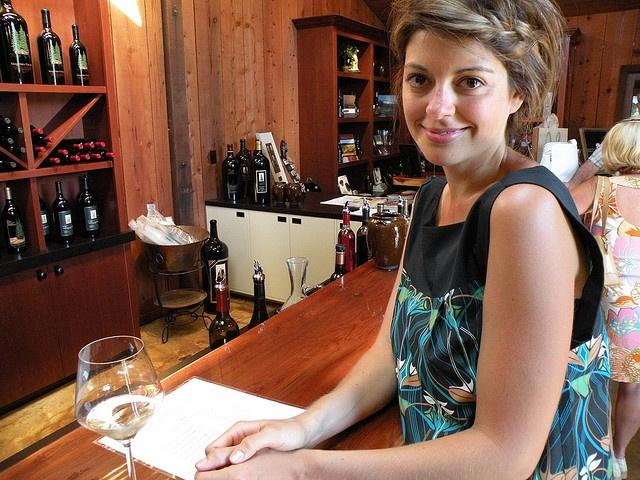Rak: (333, 24, 397, 192)
